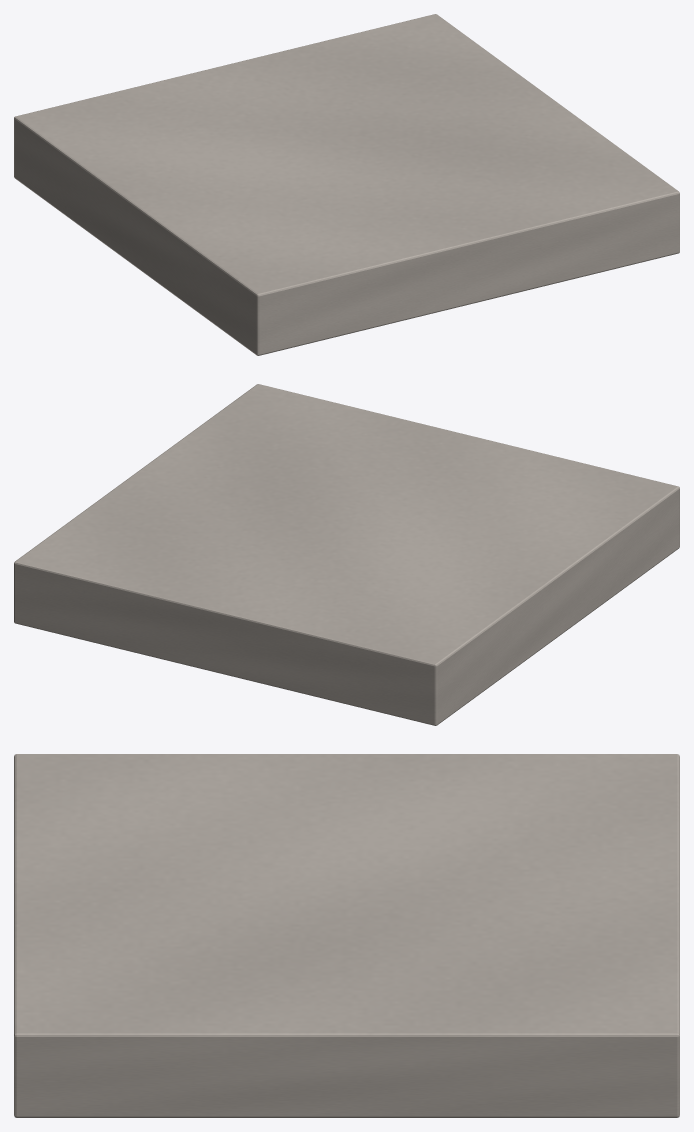
File: hepa_filter.glb
3 renders of one model, top to bottom at view 1: azimuth 30°, elevation 25°; view 2: azimuth 150°, elevation 25°; view 3: azimuth 270°, elevation 25°, orthographic. The views are drawn at different scales.
Parts seen in each view (by area): view 1: filter_housing; view 2: filter_housing; view 3: filter_housing.
Part boxes in pixels (x1,y1,x2,y2): filter_housing: (14,14,679,355); filter_housing: (14,384,679,725); filter_housing: (14,754,679,1117).
Bounding box in the file's own units: 1 × 0.155 × 1.
Materials: 2 (2 with a texture image).
